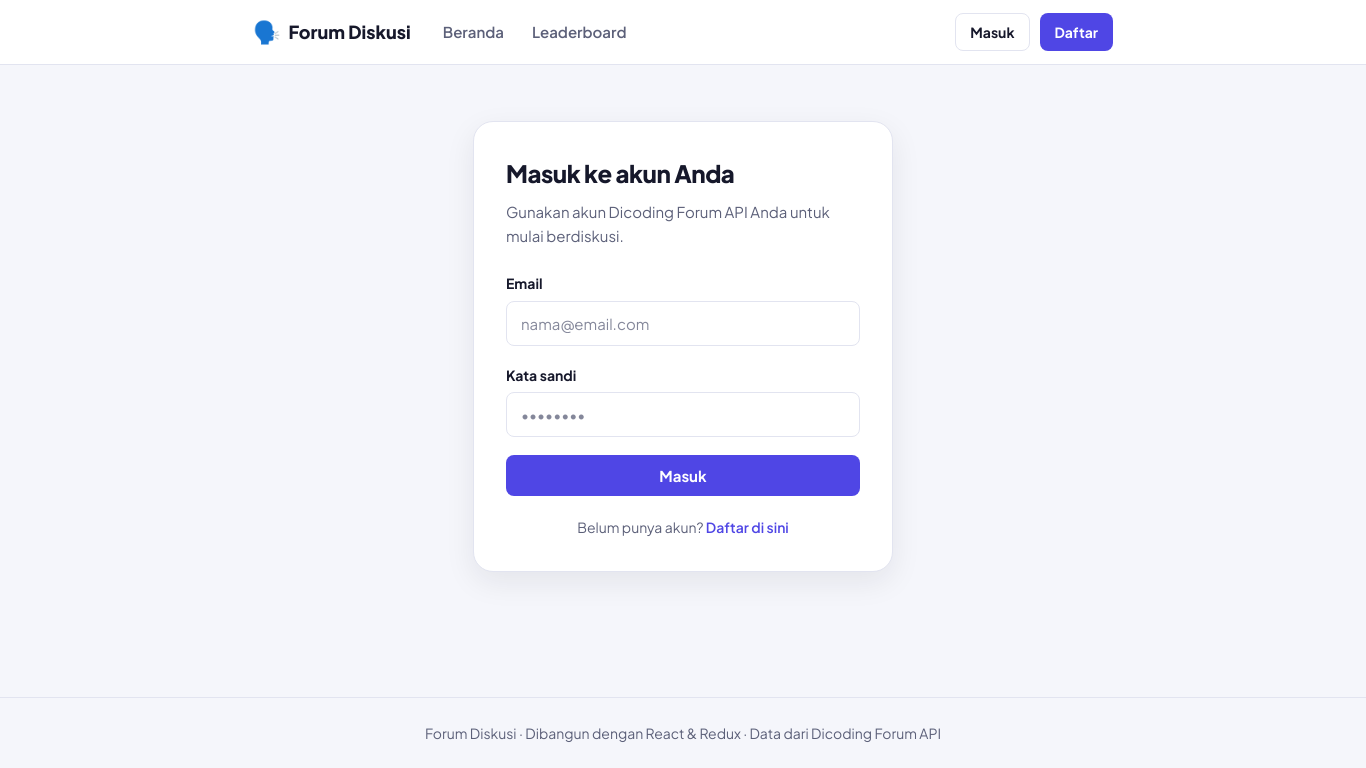
Alur Login › harus menampilkan notifikasi galat ketika kredensial salah
Type "john@example.com" into the field with id "login-email" at (683, 324), box [506,301,860,346]
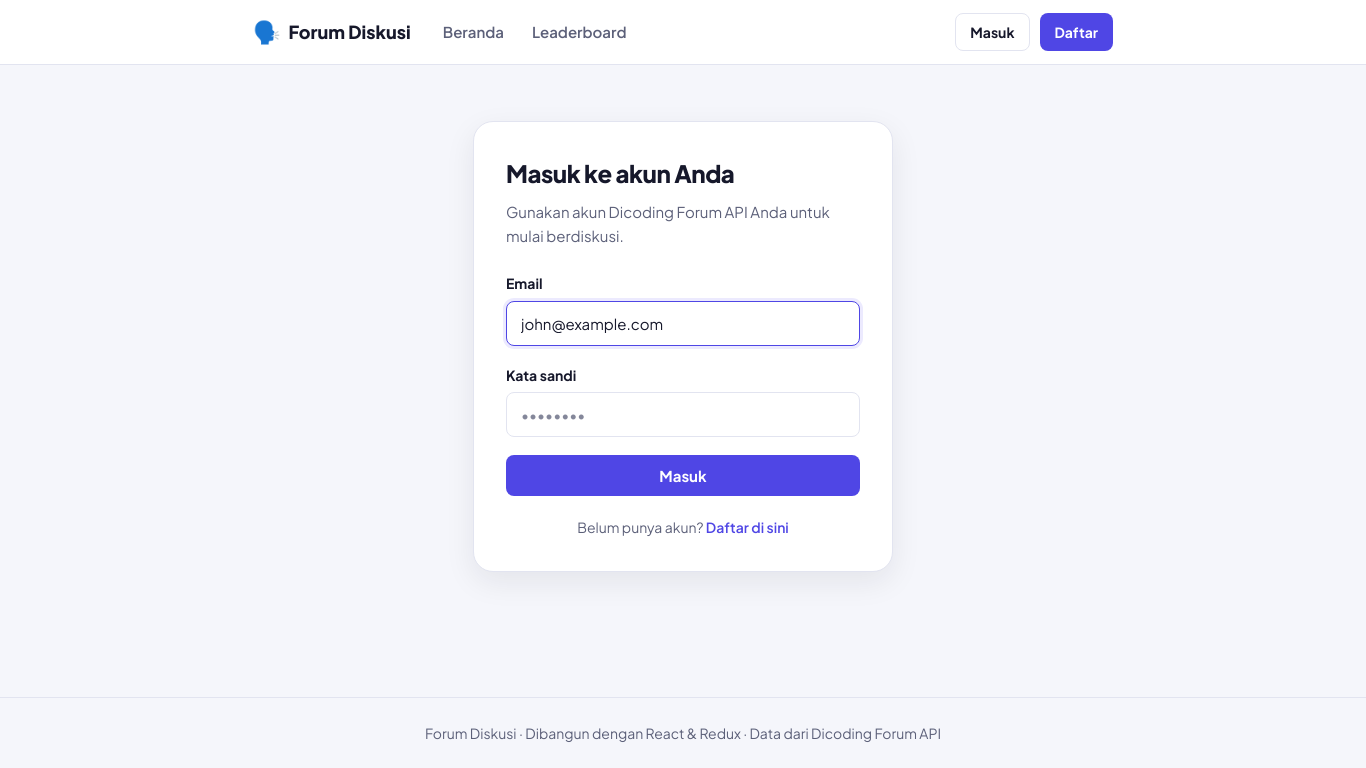
Type "kata-sandi-salah" into the password field with id "login-password" at (683, 415), box [506,392,860,437]
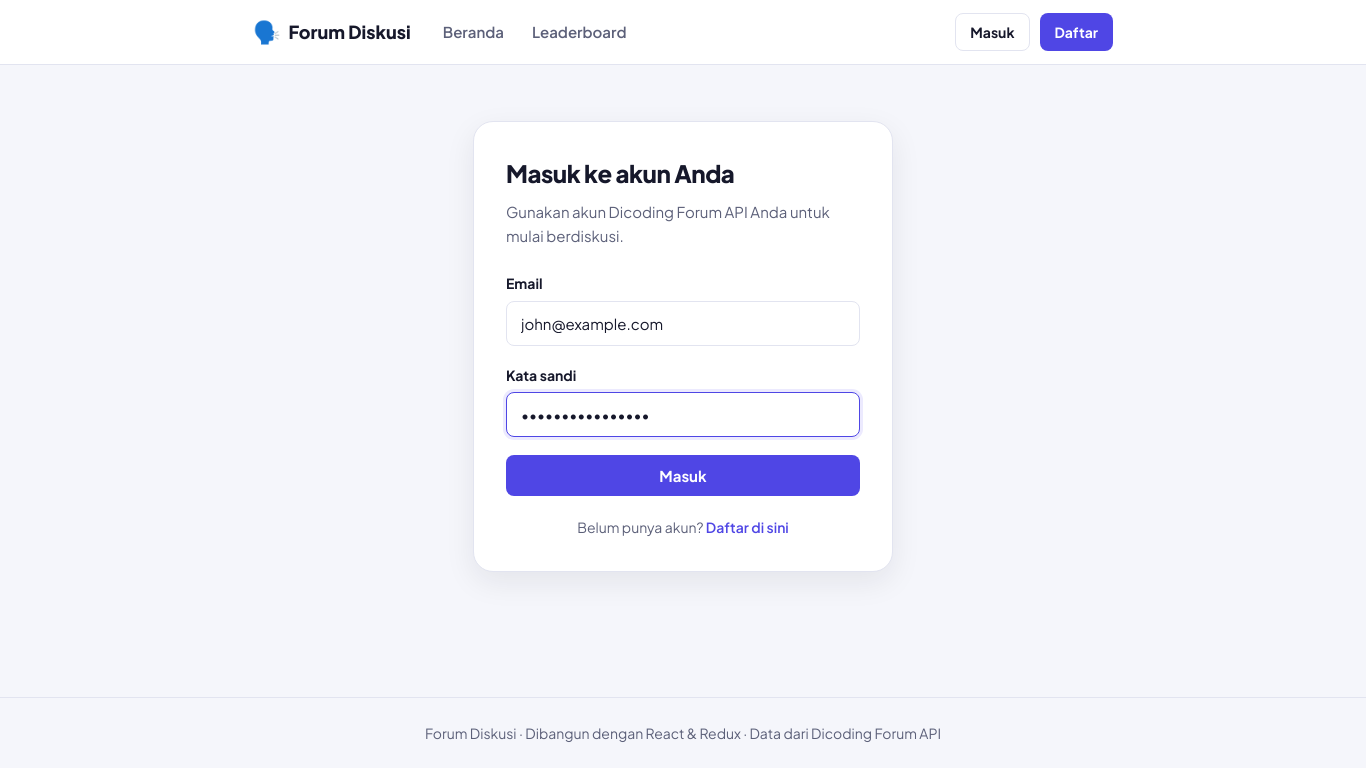
Click the submit button at (683, 476), box [506,455,860,496]
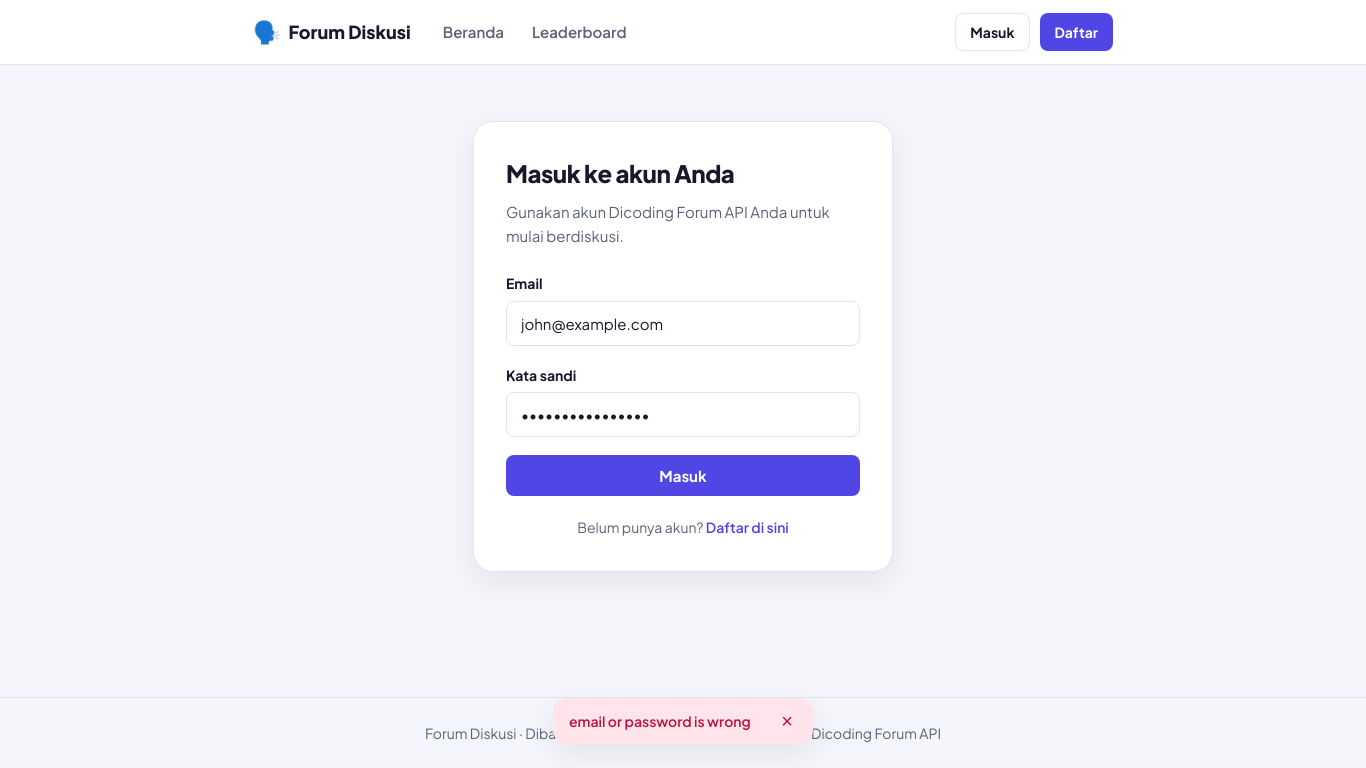
Expected: the message "email or password is wrong ×" is shown, [553,698,813,744]
